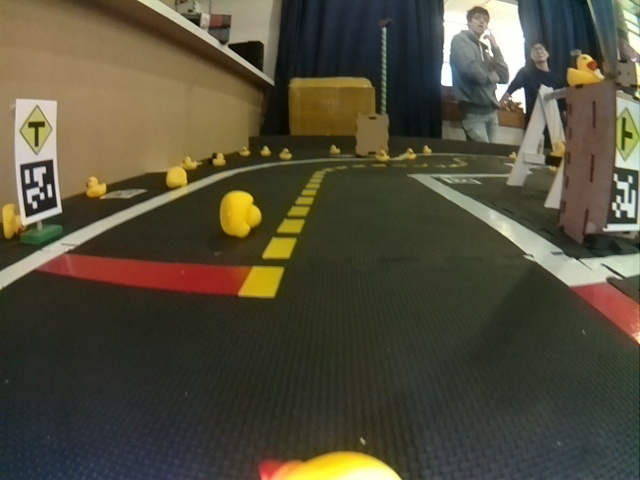Duckie: (219, 190, 261, 236), (568, 56, 602, 84), (3, 205, 25, 238), (166, 168, 188, 188), (85, 177, 105, 198), (214, 155, 225, 166), (280, 148, 292, 158), (378, 152, 388, 161), (407, 149, 416, 159), (423, 146, 432, 155), (330, 147, 340, 154), (262, 147, 271, 154), (242, 147, 249, 155)
Intersection sign: (18, 100, 56, 155), (615, 104, 638, 163)
QR code: (19, 159, 59, 218), (612, 170, 636, 223)
